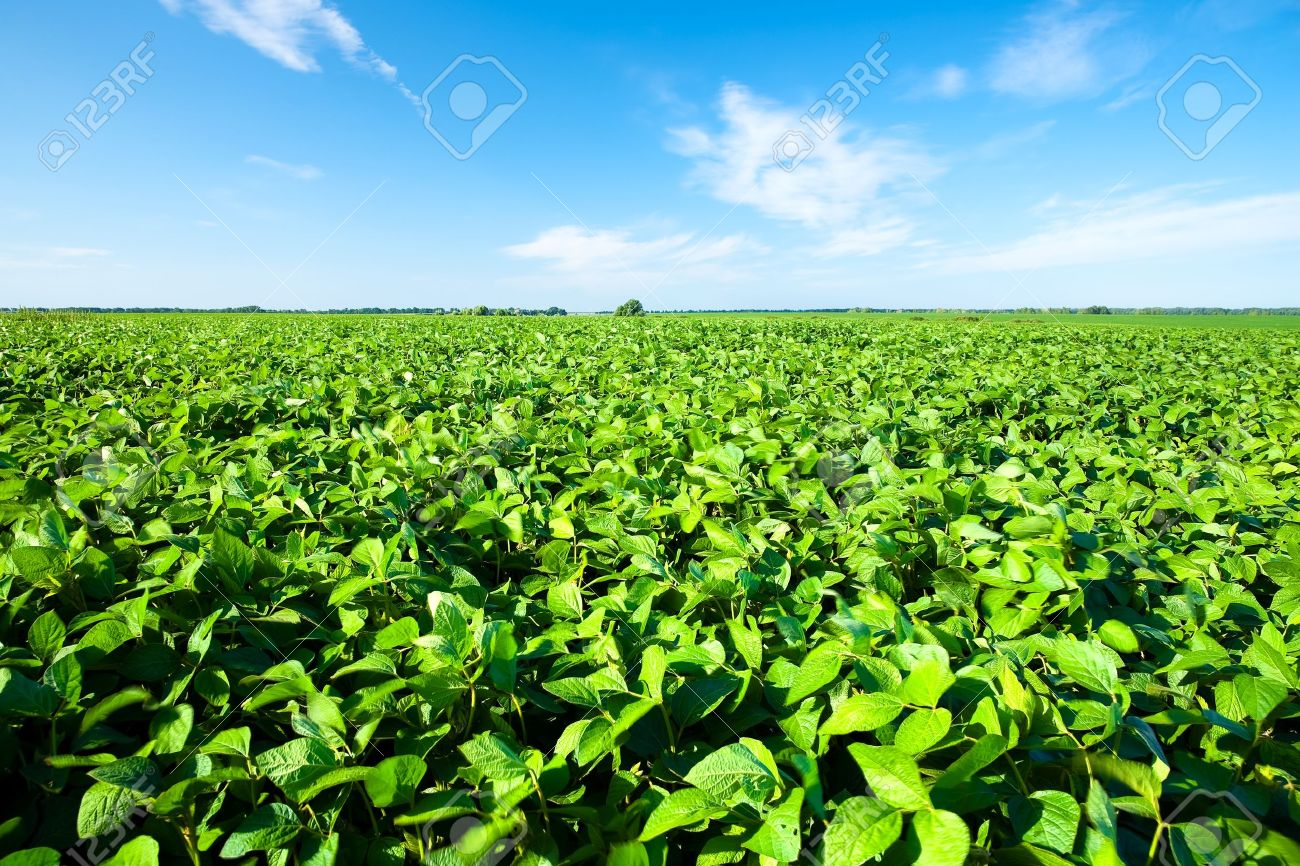soyabean: (14, 340, 673, 850), (680, 328, 1255, 837)
